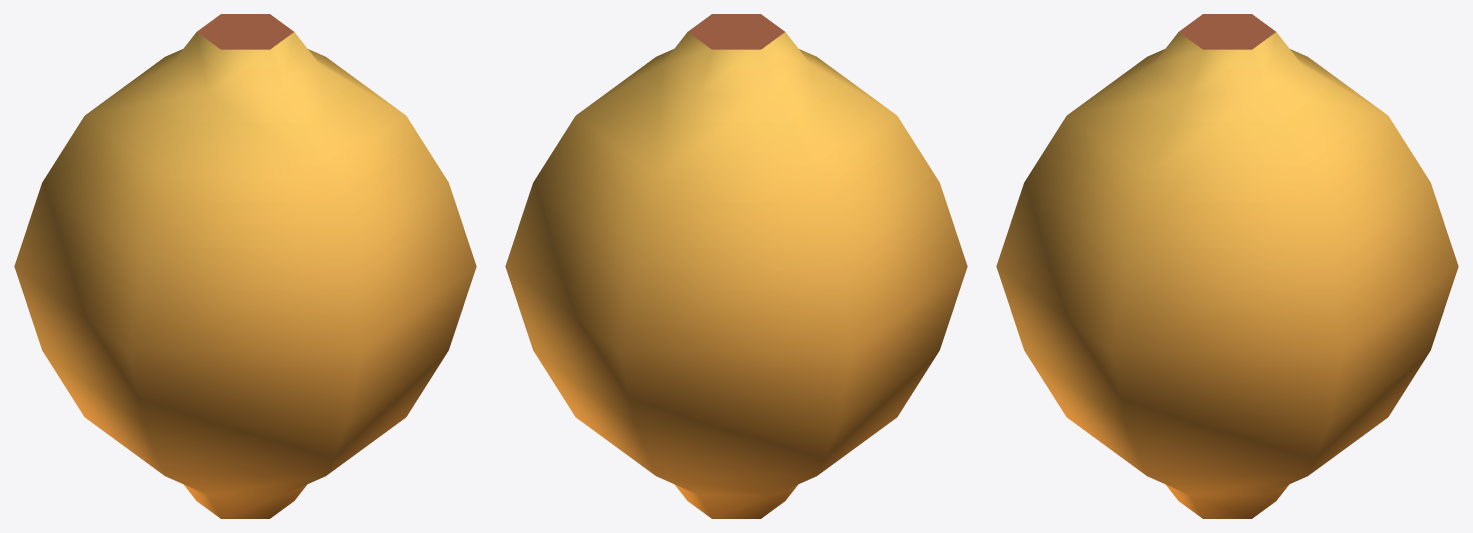
The model's file is lemon.glb.
3 views of the same model, side by side, from view 1: azimuth 30°, elevation 25°; view 2: azimuth 150°, elevation 25°; view 3: azimuth 270°, elevation 25° (orthographic).
Parts seen in each view (by area): view 1: lemon; view 2: lemon; view 3: lemon.
Boxes of the visible parts, x1,y1,x2,y2 form: lemon: (14,14,476,518); lemon: (505,14,967,518); lemon: (996,14,1458,518).
Size of the model in its own units: 0.1732 by 0.224 by 0.2.
Materials: 1 (1 with a texture image).
